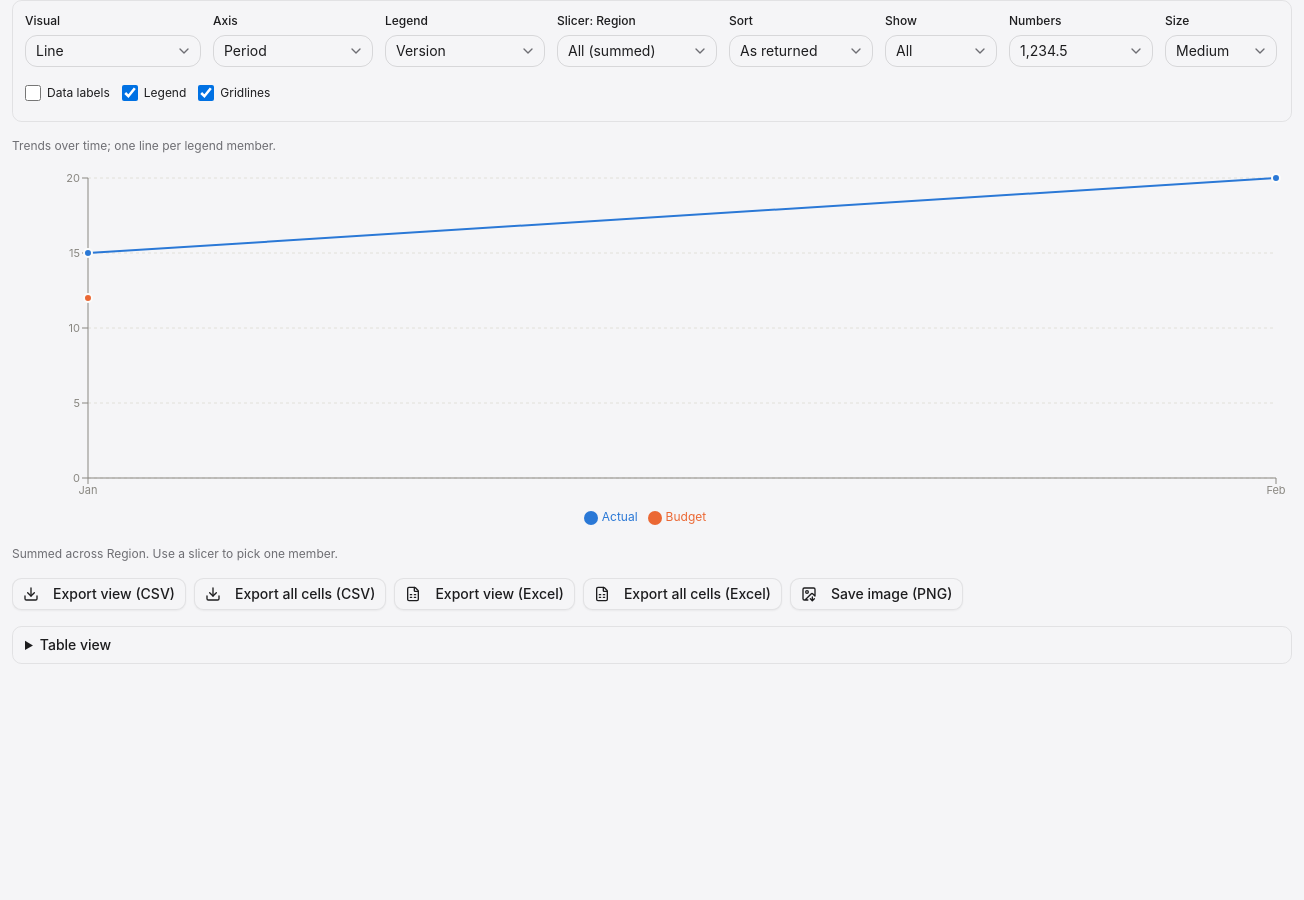
Test: ChartBuilder › shows headline numbers as KPI cards
The image size is (1304, 900).
Step 1. Click the dropdown named "Visual" → [113, 51], box left=25, top=35, right=201, bottom=67
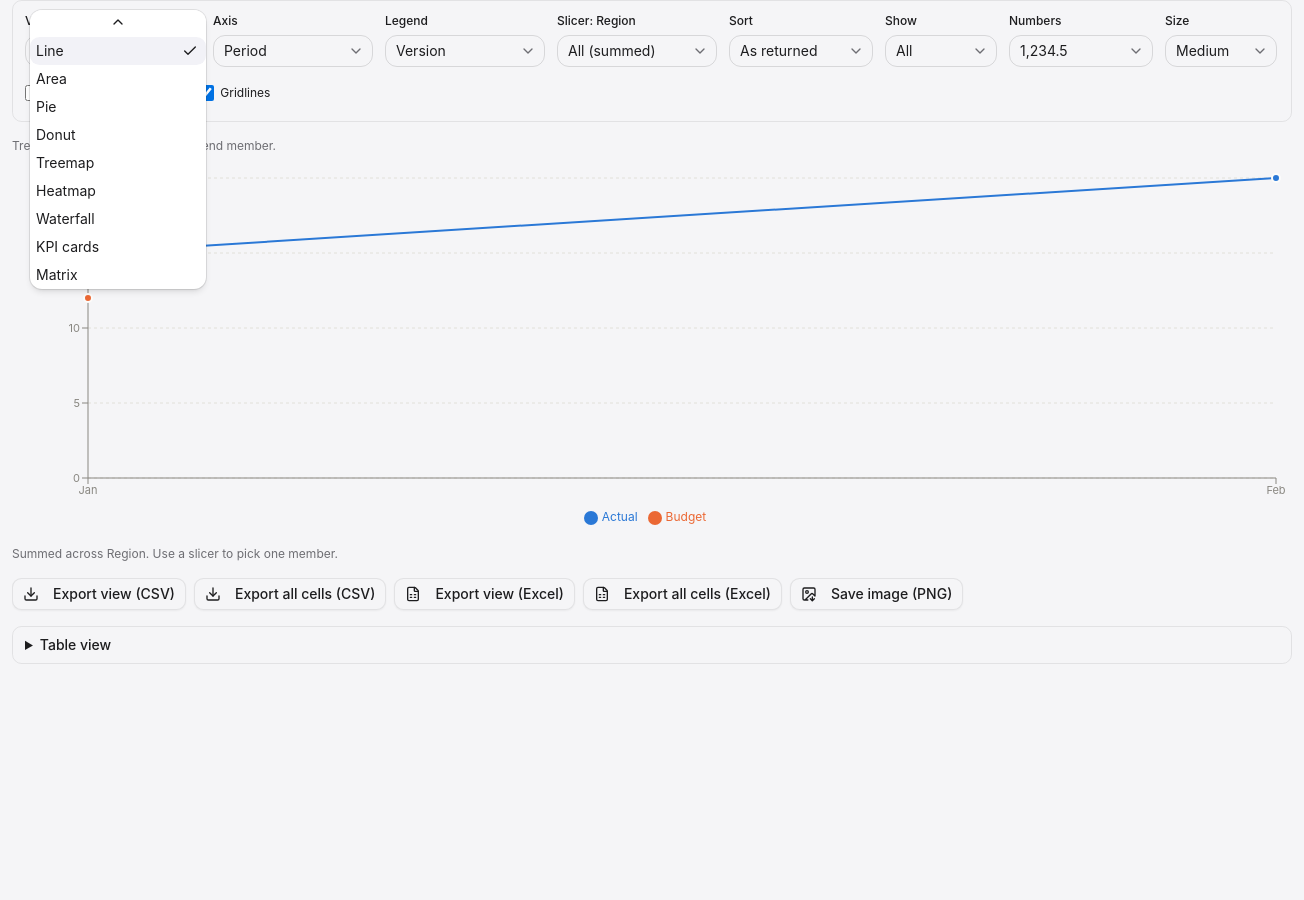
Step 2. Click the option "KPI cards" → [68, 246], box left=36, top=238, right=99, bottom=255
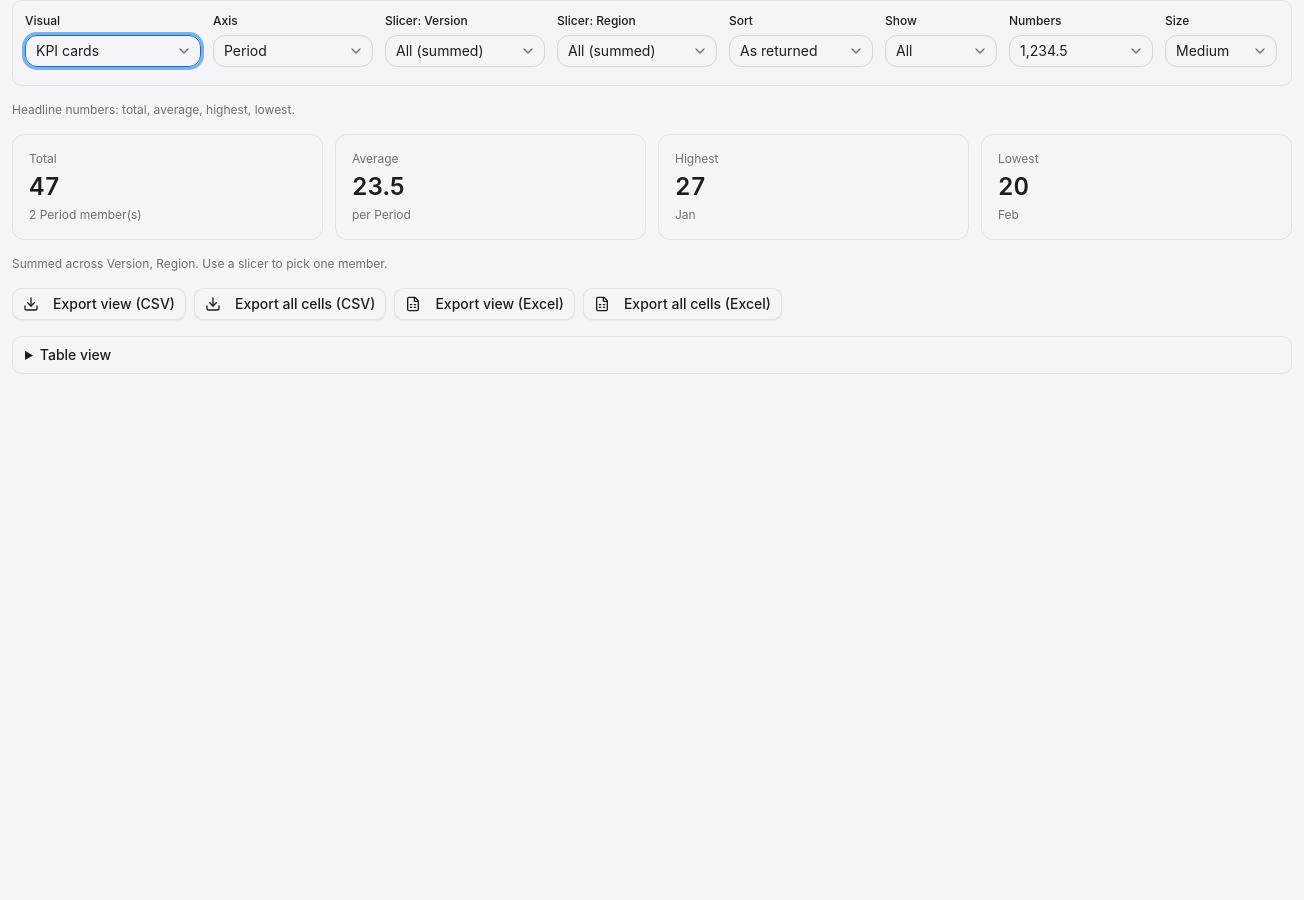
Result: the text "Total" is shown at left=29, top=151, right=57, bottom=166
Result: the text "47" is shown at left=29, top=172, right=60, bottom=201
Result: the text "Highest" is shown at left=675, top=151, right=718, bottom=166
